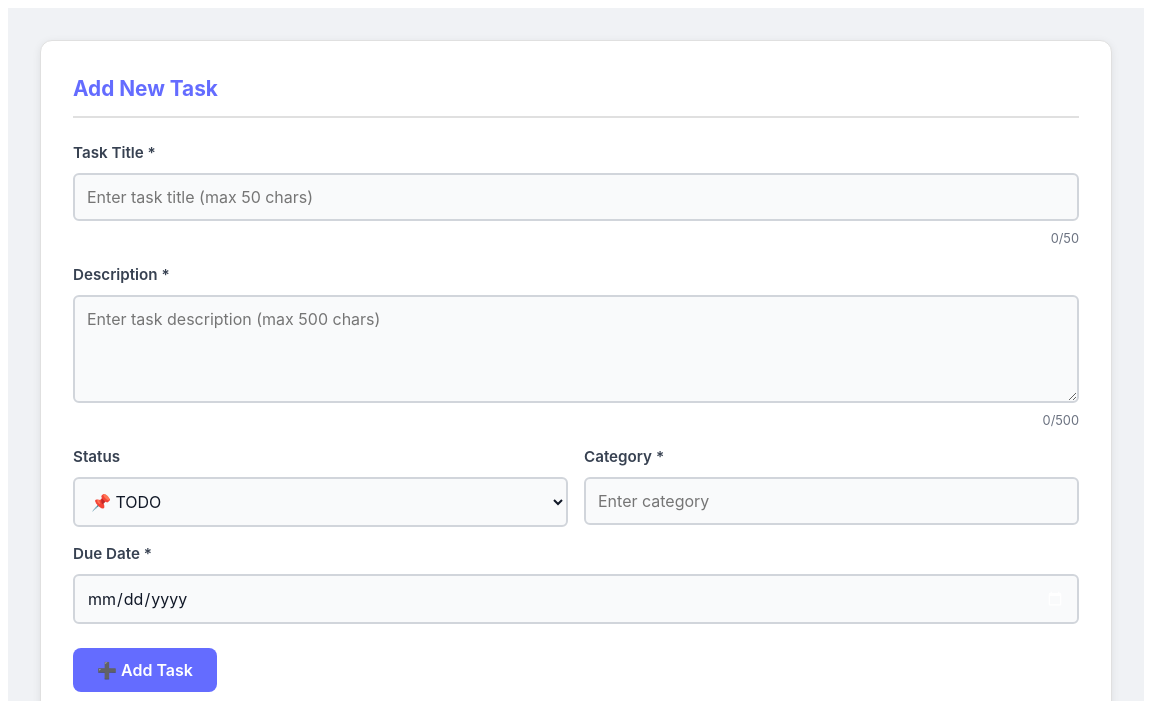
Test case: TaskForm – date and character-set validation › shows error when due date is in the past
This screenshot has width=1152, height=701.
In the field labelled "Task Title *": [576, 197] box [73,173,1079,221], type "Title"
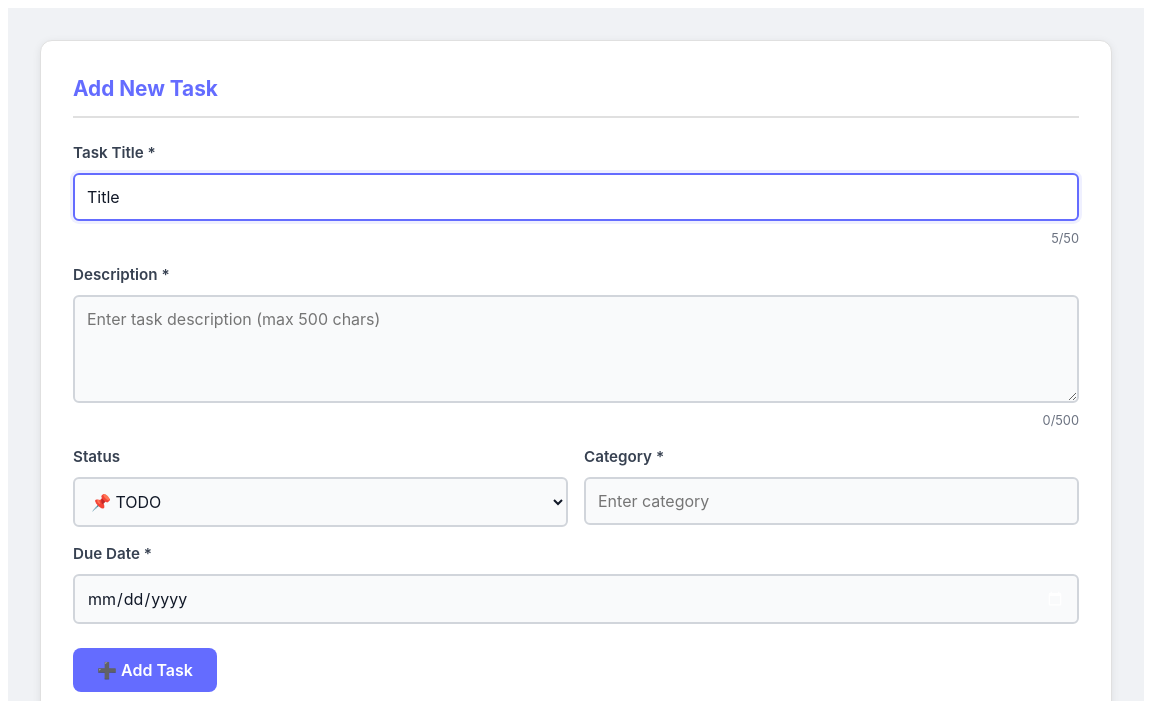
In the text box labelled "Description *": [576, 349] box [73,295,1079,403], type "Desc"
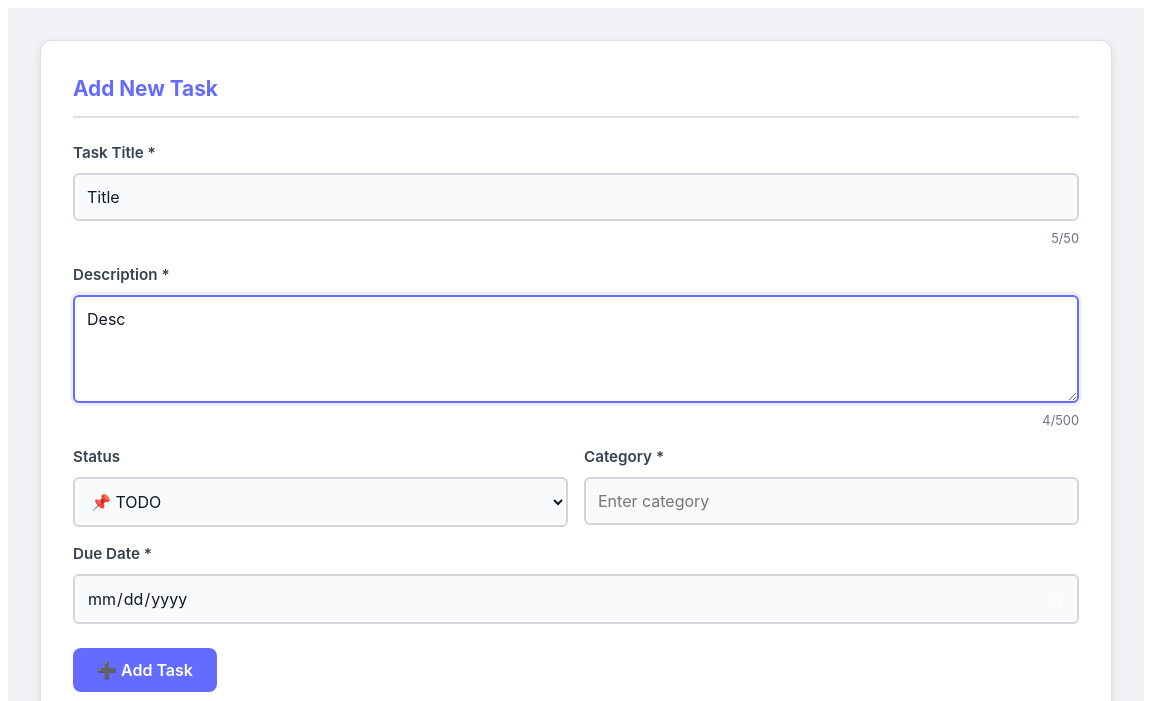
In the field labelled "Category *": [832, 501] box [584,477,1079,525], type "Work"
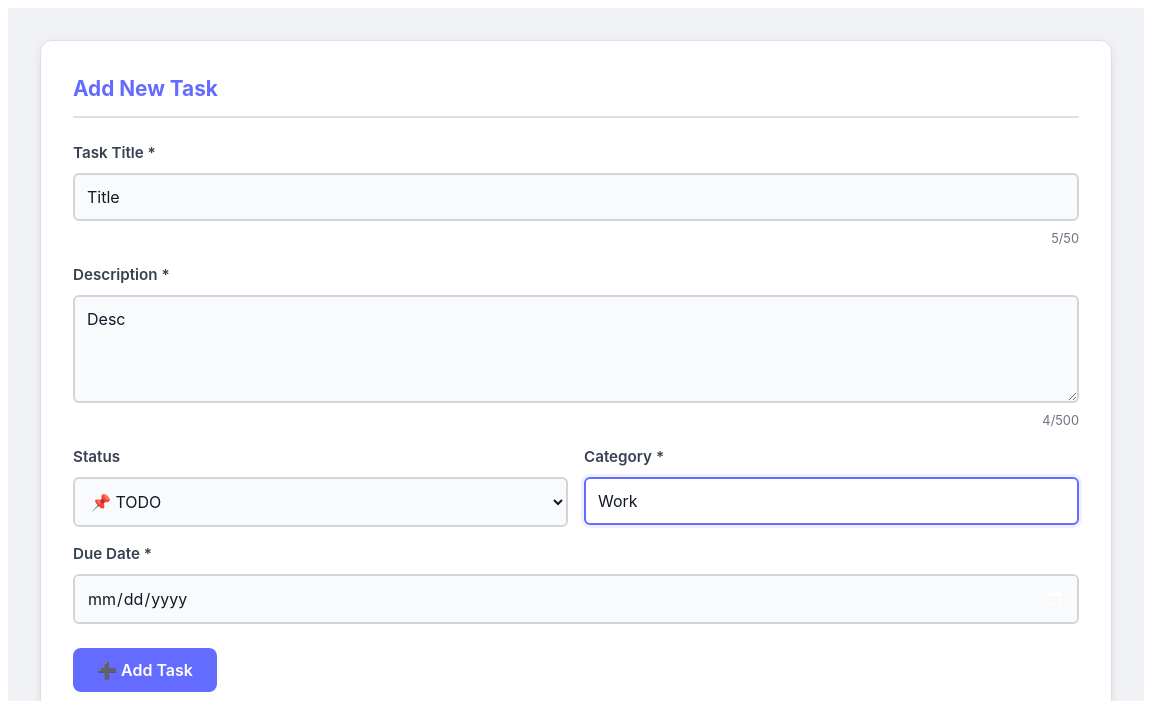
In the date field labelled "Due Date *": [576, 599] box [73,574,1079,624], type "2020-01-01"
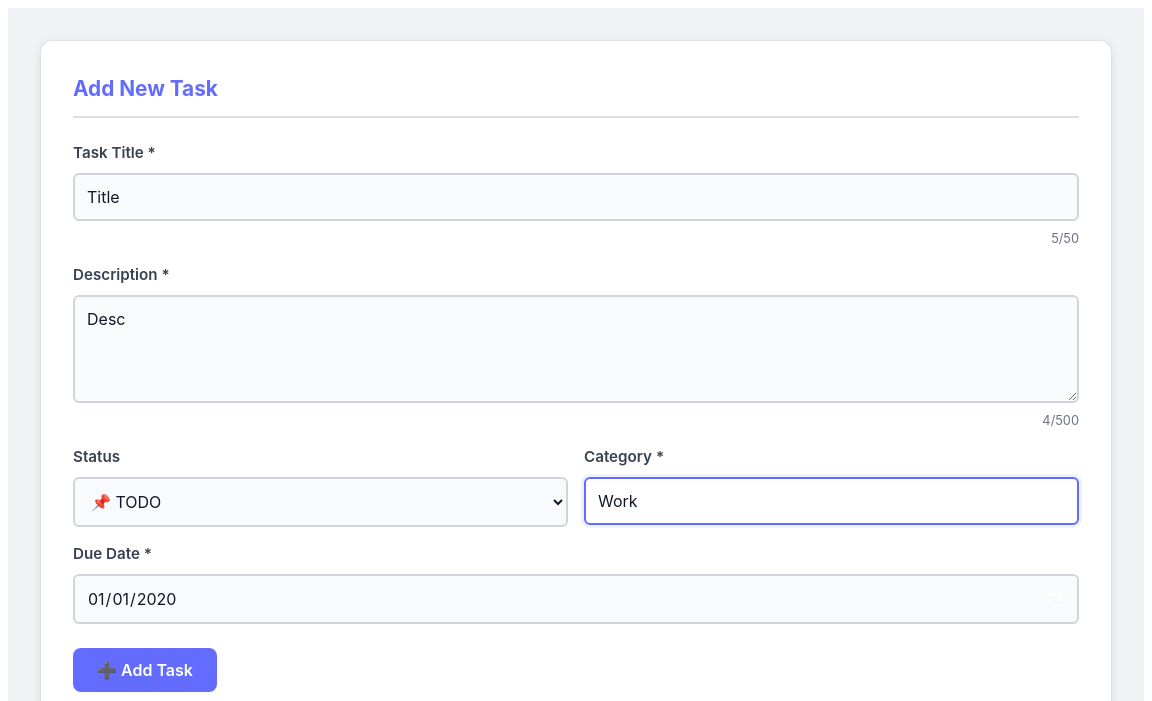
Submit the form
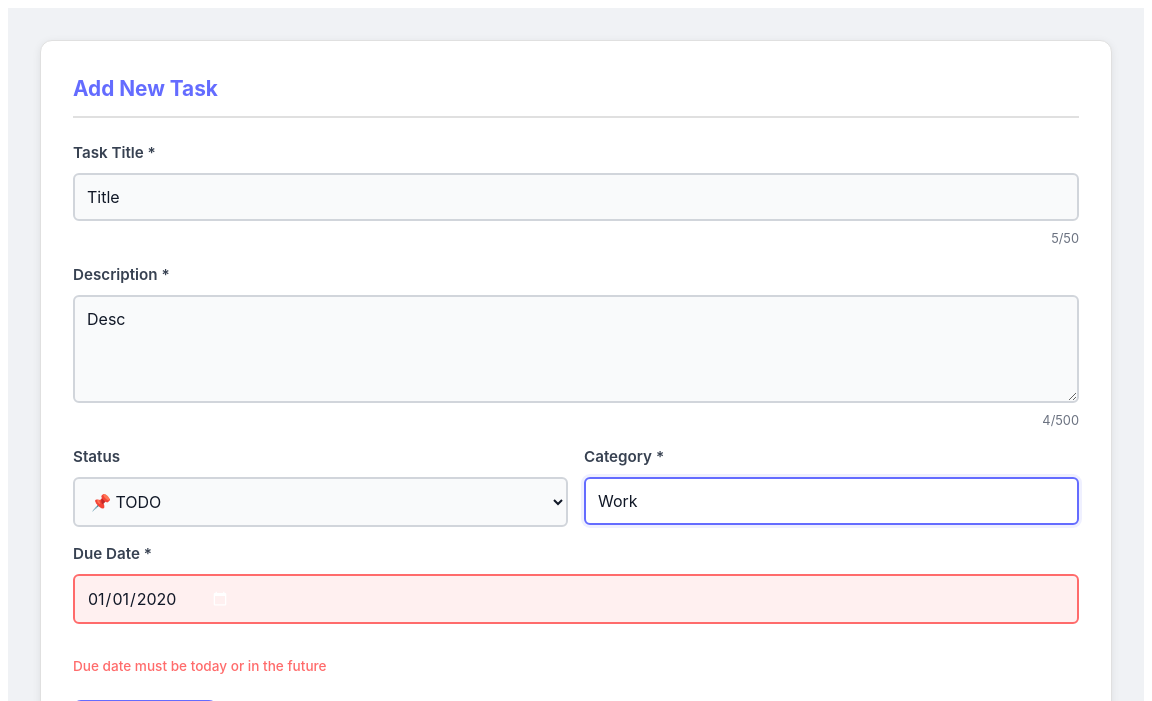
Result: the text "Due date must be today or in the future" is shown at [73,658,327,674]
